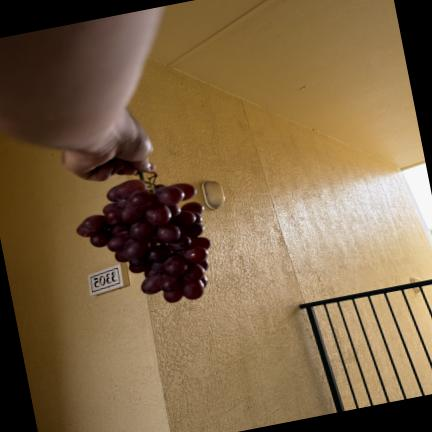grape_cluster: (77, 173, 211, 302)
